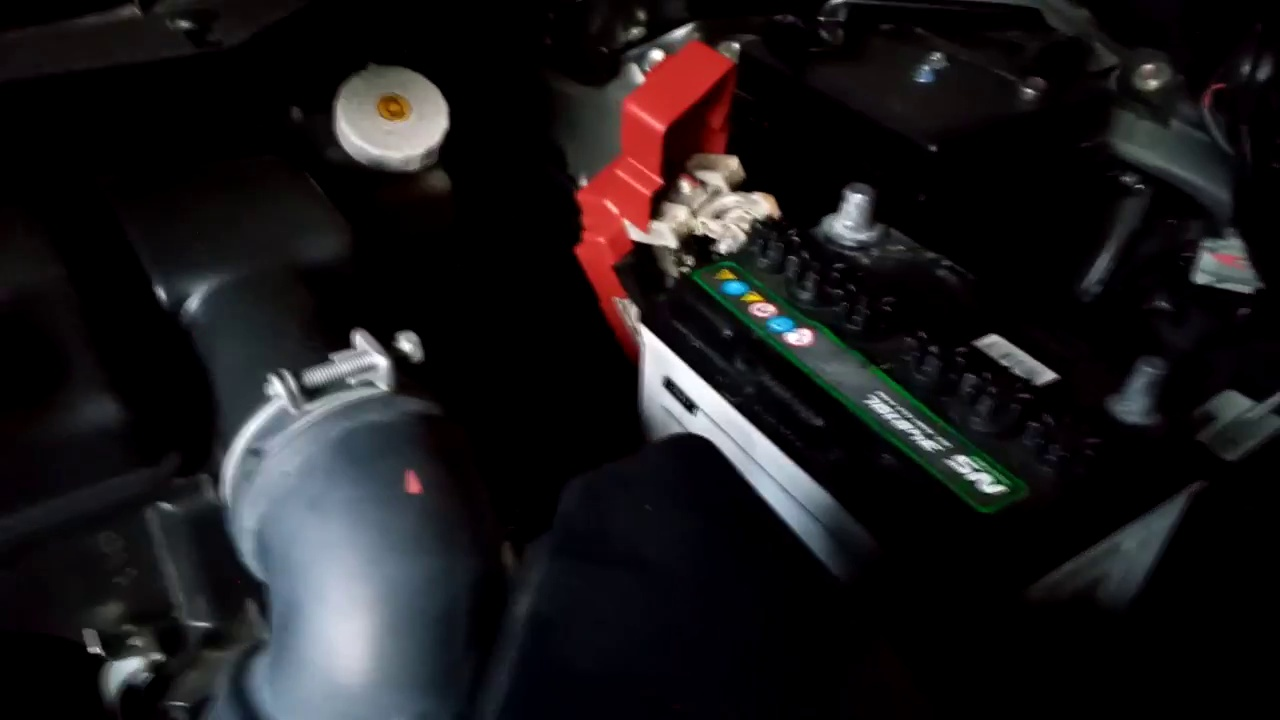battery: (647, 174, 1206, 581)
neg_disconnected: (1084, 328, 1193, 447)
pos_disconnected: (592, 79, 893, 291)
